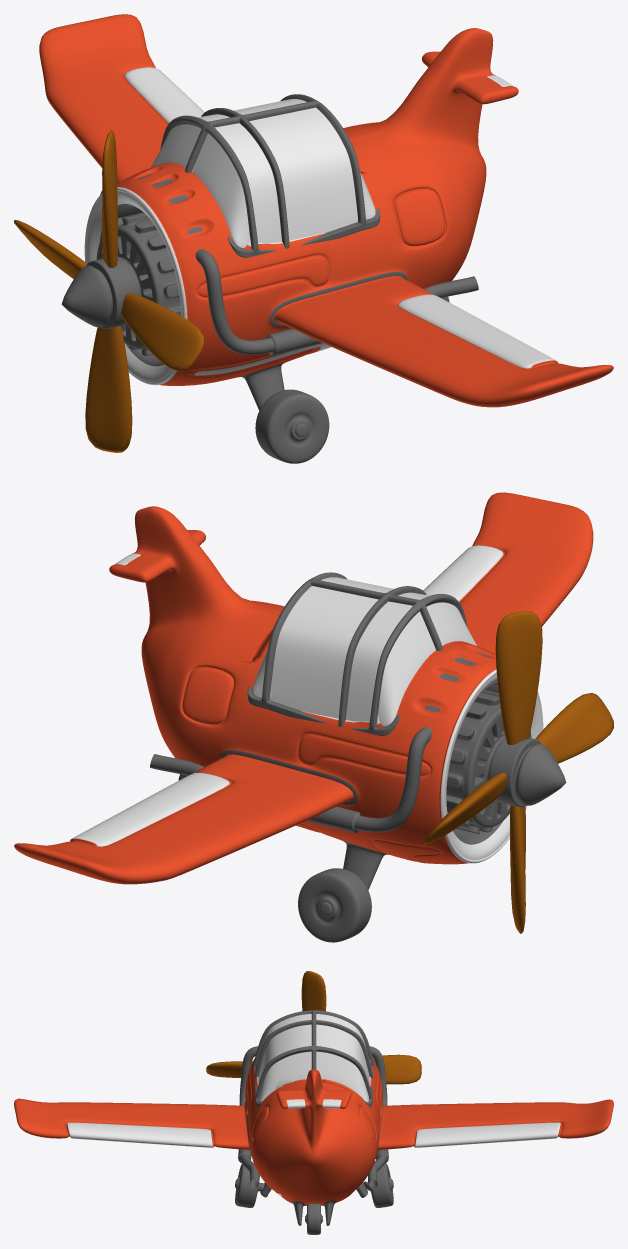
3 renders of one model, top to bottom at view 1: azimuth 30°, elevation 25°; view 2: azimuth 150°, elevation 25°; view 3: azimuth 270°, elevation 25°, orthographic. The views are drawn at different scales.
Visible parts, largest first — view 1: Cylinder.002; view 2: Cylinder.002; view 3: Cylinder.002.
Part boxes in pixels (x1,y1,x2,y2): Cylinder.002: (14, 14, 613, 463); Cylinder.002: (14, 492, 613, 942); Cylinder.002: (14, 971, 613, 1234).
Size of the model in its own units: 409 by 302 by 801.
